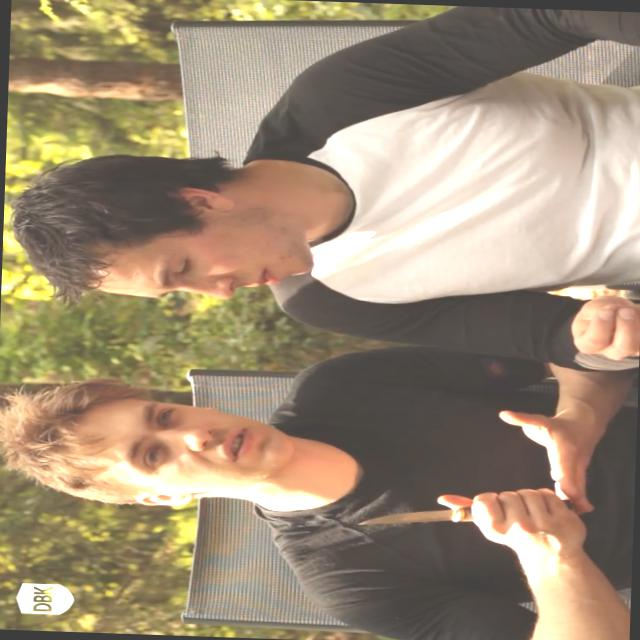knife: (340, 476, 548, 544)
